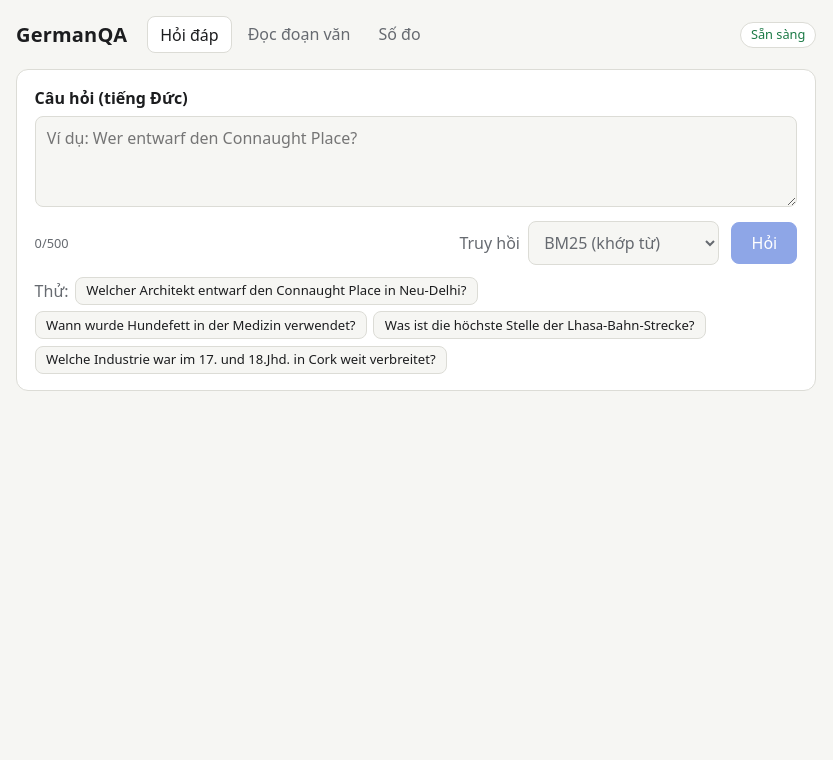
Scenario: GĐ18: Hybrid và xếp lại (rerank) › kết quả KHÔNG xếp lại giữ nguyên như trước: không có hàng/ô xếp lại
Expected: the dropdown is shown, [528, 221, 719, 265]
Type "Wer?" into the text box labelled "Câu hỏi (tiếng Đức)" at (416, 162), box [35, 116, 797, 207]
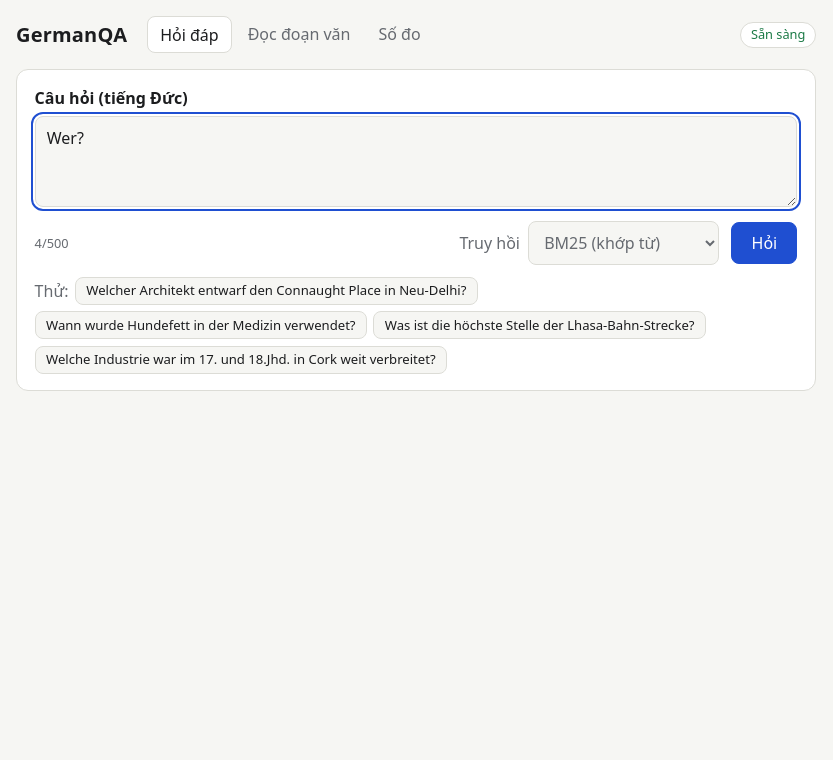
Click the button "Hỏi" at (764, 243), box [731, 222, 797, 264]
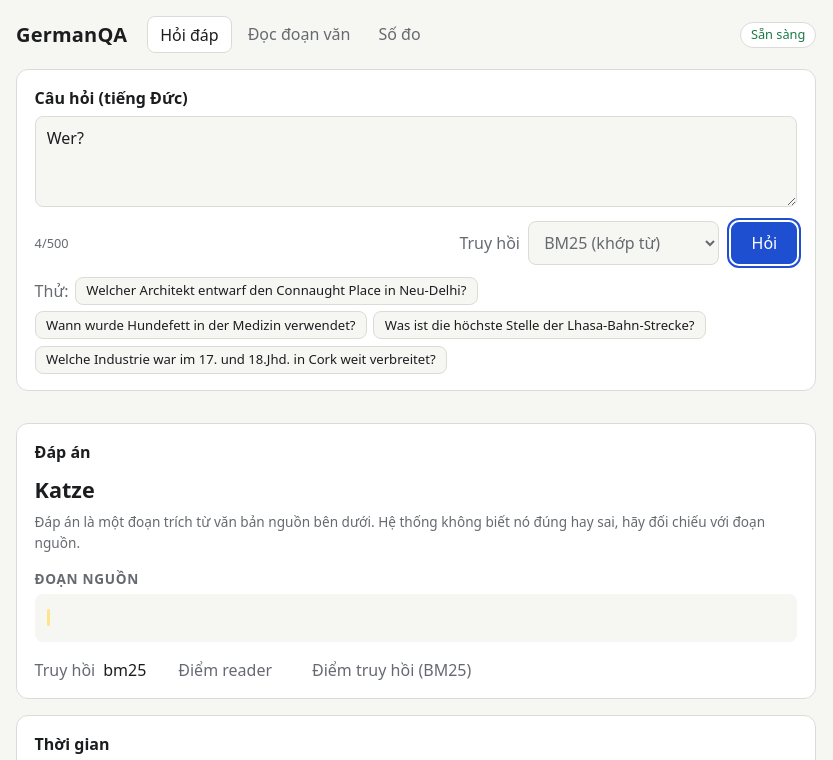
Result: the element with test id "answer-mark" is shown at [47, 609, 50, 626]
Result: the text "Điểm truy hồi (BM25)" is shown at [312, 658, 471, 682]
